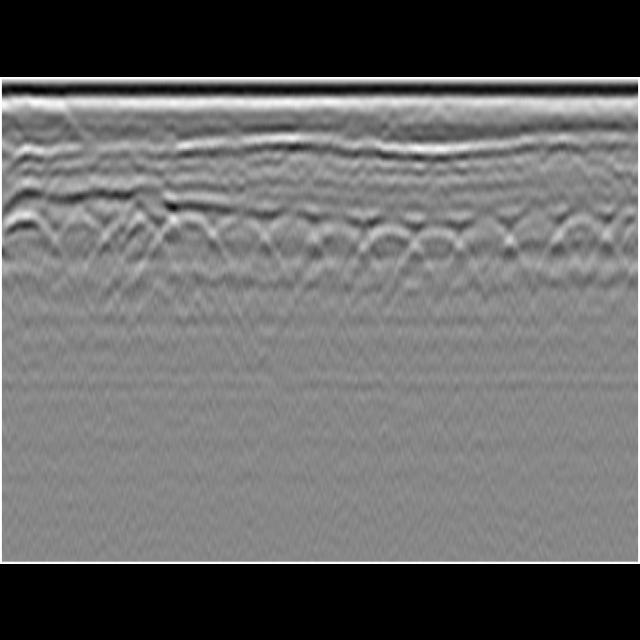hyperbola: (201, 213, 265, 264), (508, 210, 562, 270), (456, 219, 516, 267), (551, 208, 615, 250), (158, 214, 216, 260), (261, 214, 317, 260), (364, 225, 422, 269), (5, 208, 50, 264), (310, 224, 370, 262), (409, 222, 466, 260)
